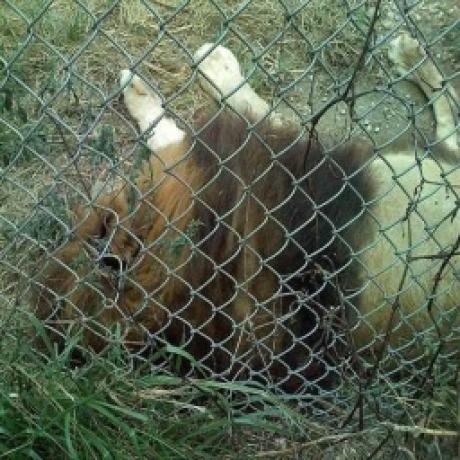Lion: (39, 12, 460, 366)
